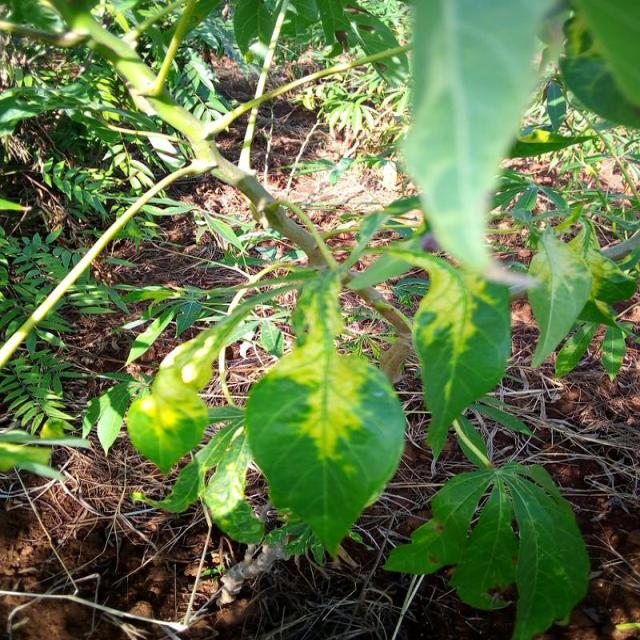cassava leaf: (398, 0, 542, 272), (244, 340, 406, 559), (410, 258, 512, 472), (525, 227, 593, 370), (125, 368, 208, 474)
